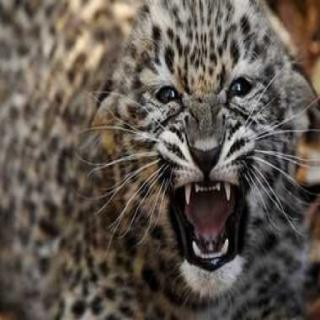Leopard: (11, 0, 318, 306)
